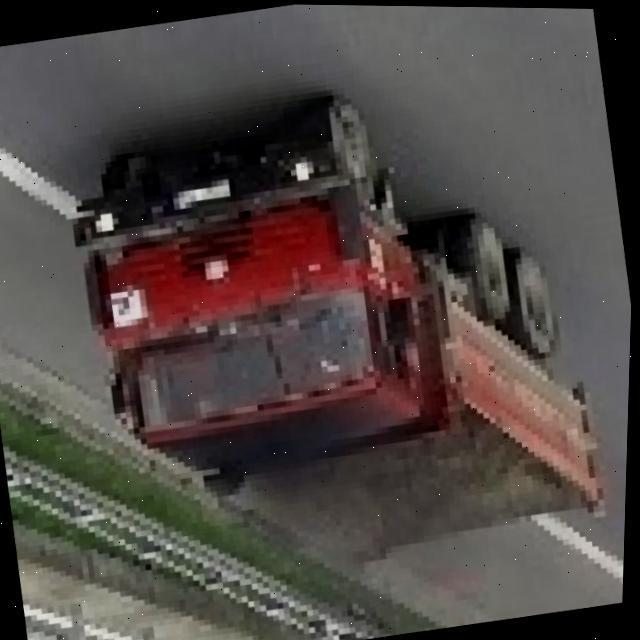truck: (53, 66, 633, 608)
